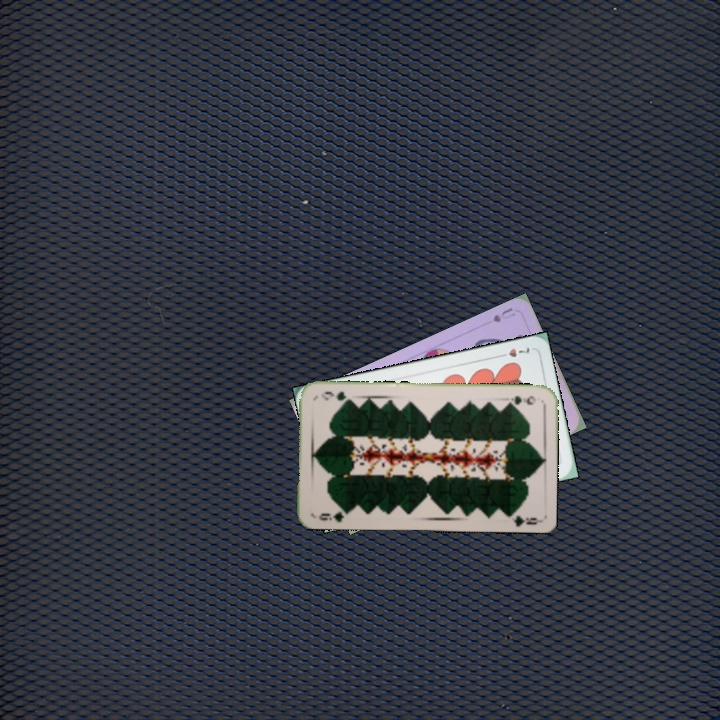G9: (315, 505, 352, 525), (502, 392, 538, 407)
H7: (494, 343, 532, 360)
SU: (489, 303, 518, 325)
